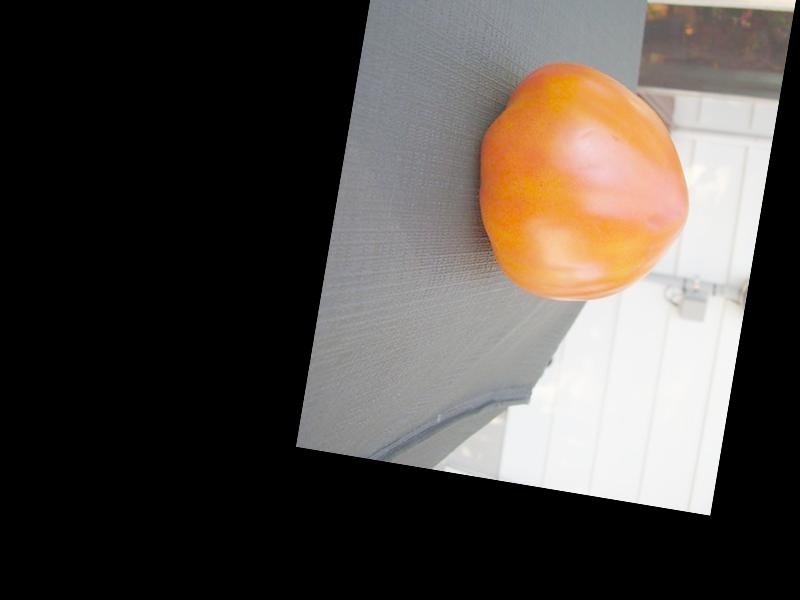Tomato: (461, 50, 710, 318)
